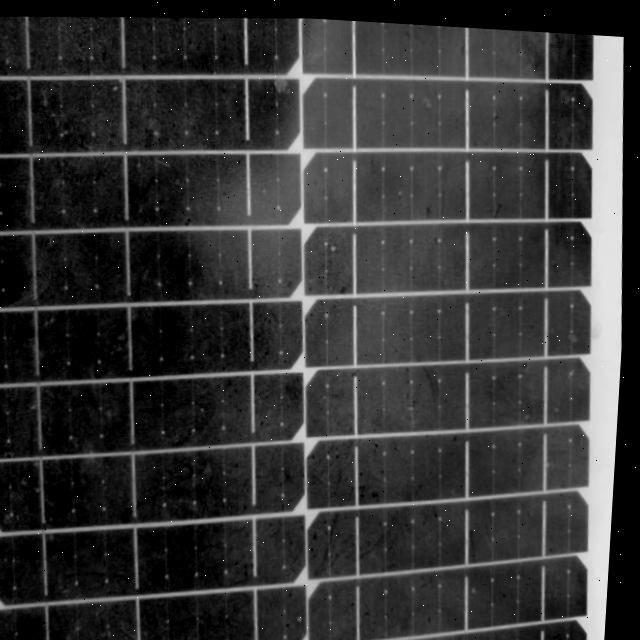Surface Contaminant: (0, 15, 615, 640)
